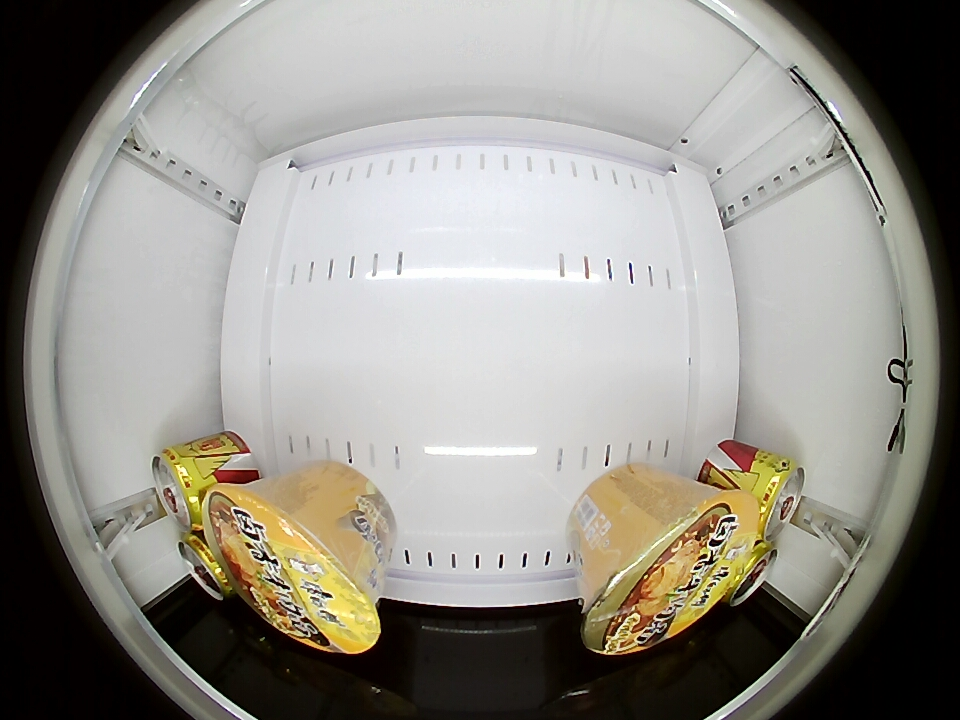dongpeng: (152, 444, 213, 532), (747, 456, 806, 541), (177, 531, 232, 601), (727, 542, 778, 607)
luxiangniurou: (202, 481, 381, 655), (583, 488, 760, 656)
